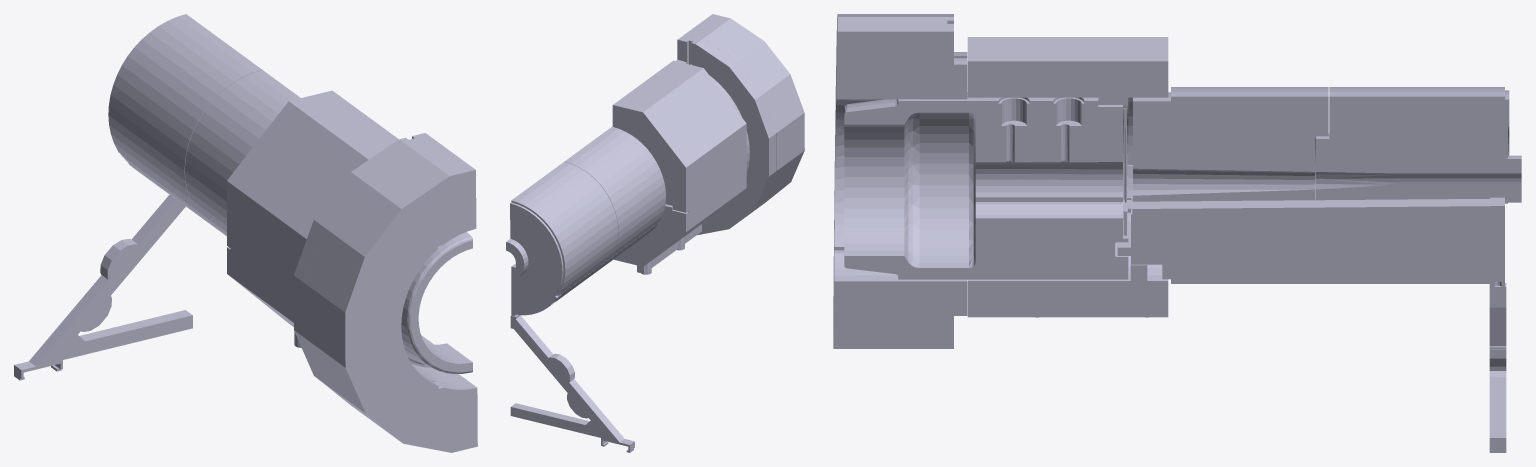
The model's file is Forward-Shielding-SideA-cut2.glb.
3 views of the same model, side by side, from view 1: azimuth 30°, elevation 25°; view 2: azimuth 150°, elevation 25°; view 3: azimuth 270°, elevation 25° (orthographic). The views are drawn at different scales.
Parts seen in each view (by area): view 1: null; view 2: null; view 3: null.
Boxes of the visible parts, x1=… form: null: x1=14, y1=14, x2=477, y2=452; null: x1=506, y1=14, x2=804, y2=452; null: x1=833, y1=14, x2=1521, y2=452.
Bounding box in the file's own units: 3.42 × 7.18 × 10.31.
